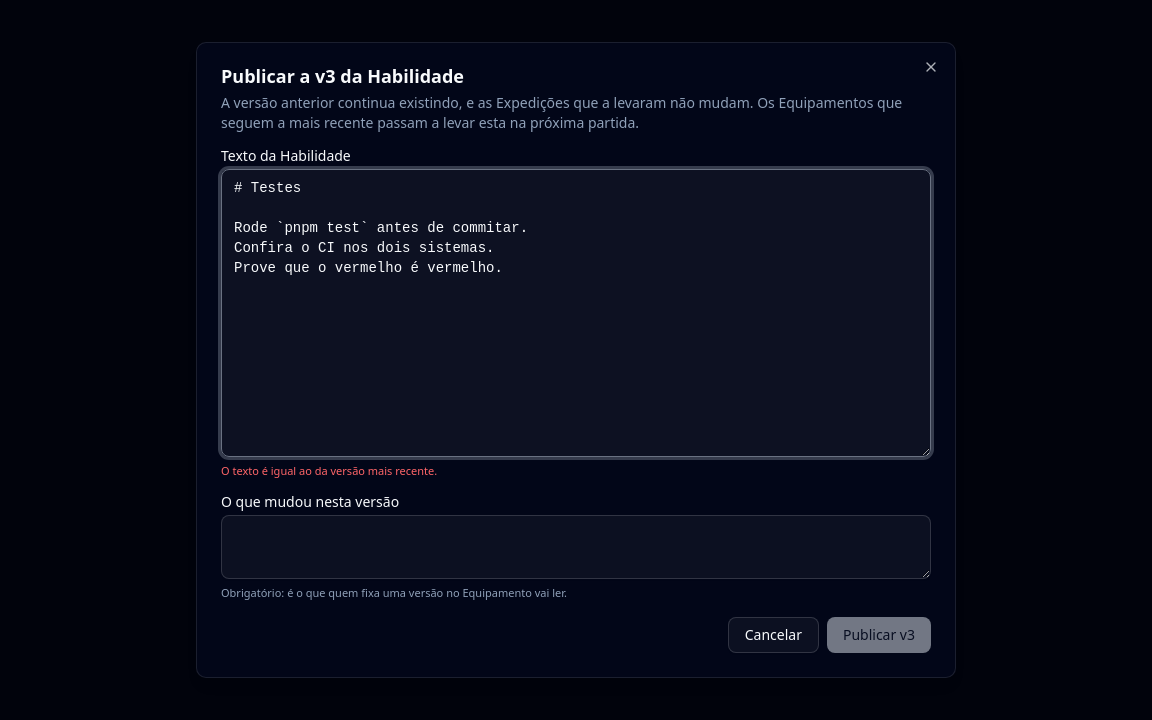
Test: publicar uma versão de Habilidade › um 409 do CAS fica no diálogo, com o texto editado preservado
This screenshot has width=1152, height=720.
Replace the text in the text box labelled "Texto da Habilidade" with "# Texto que quase se perdeu". click: (576, 313)
box: [221,169,931,457]
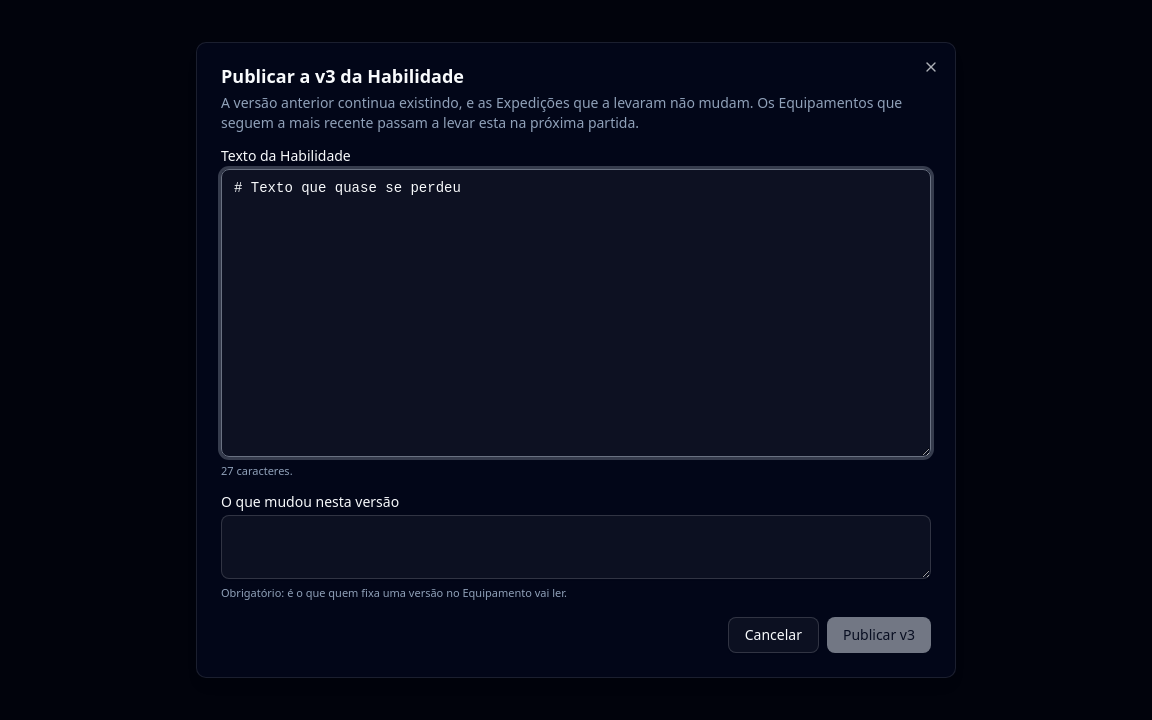
Type "Nota." into the text box labelled "O que mudou nesta versão". click: (576, 547)
box: [221,515,931,579]
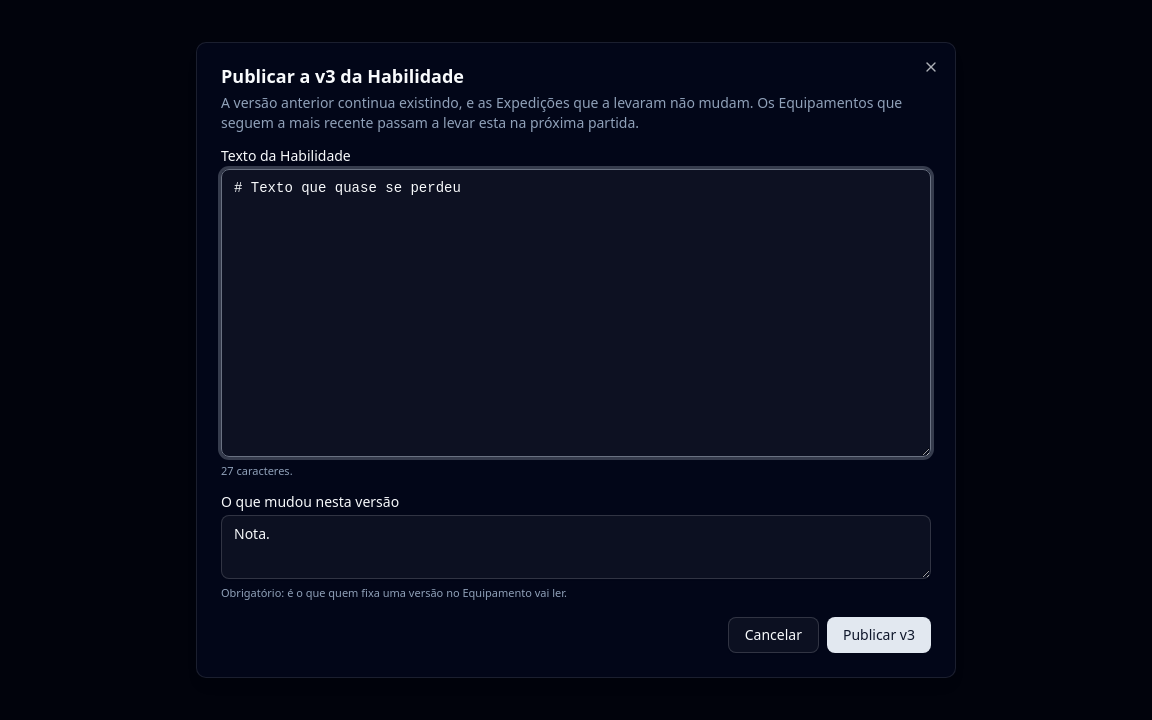
Click the button "Publicar v3". click: (879, 635)
box: [827,617,931,653]
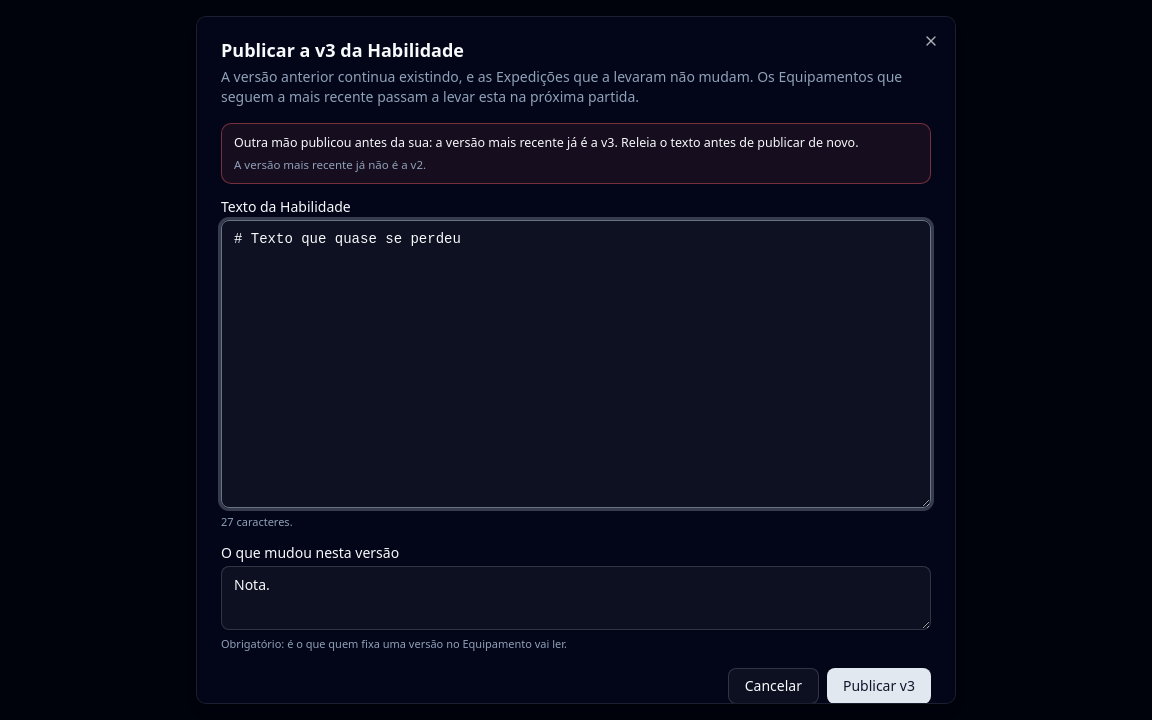
Result: the message is shown at [221,123,931,184]
Result: the message shows "A versão mais recente já não é a v2." at [234,157,426,172]
